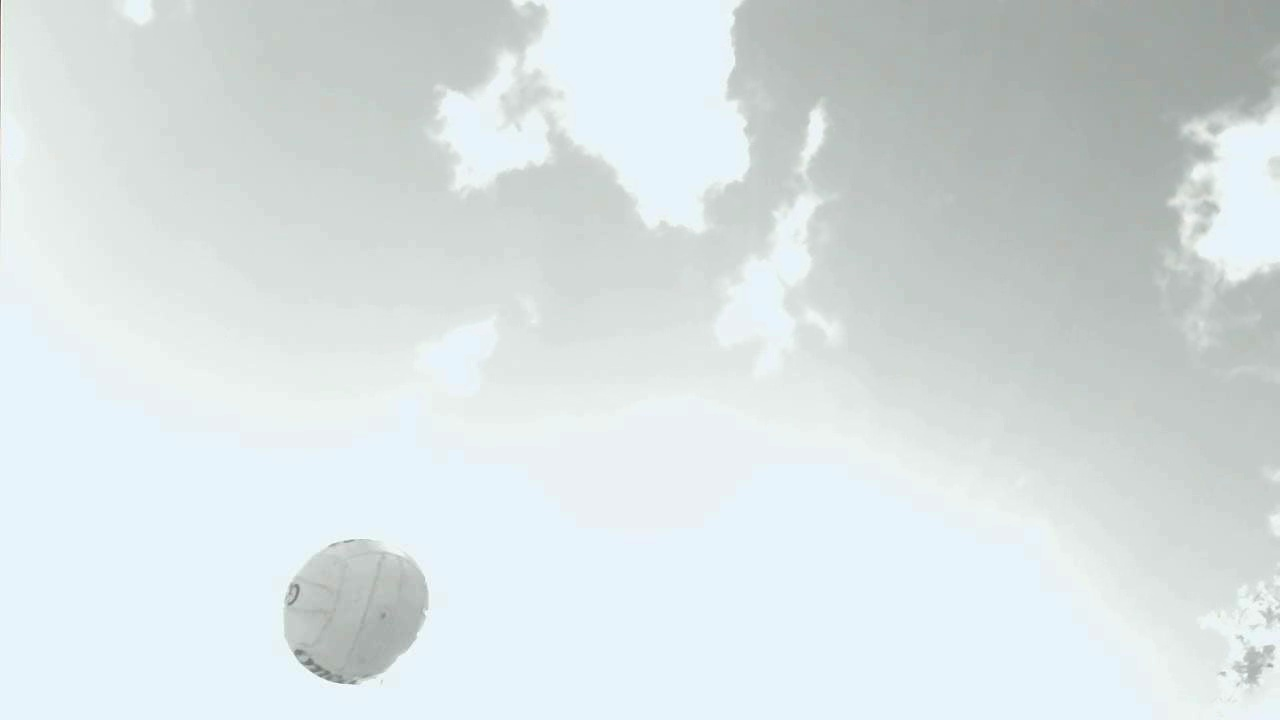Football-Spotter: (284, 539, 427, 683)
